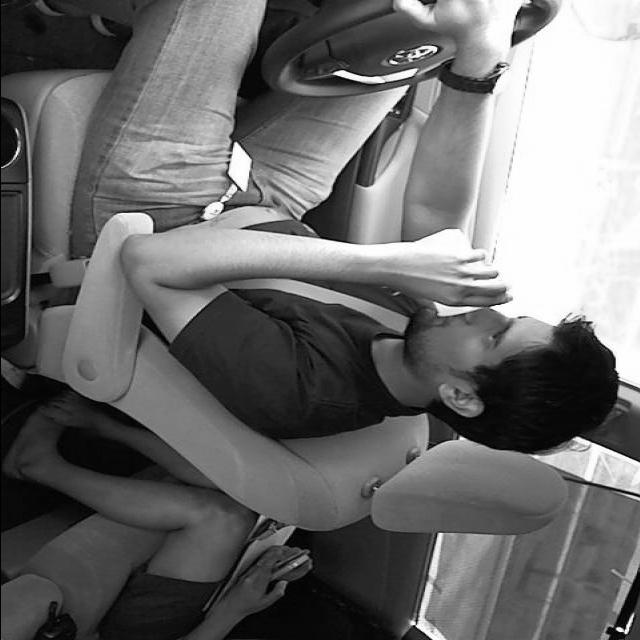drinking: (408, 228, 496, 318)
